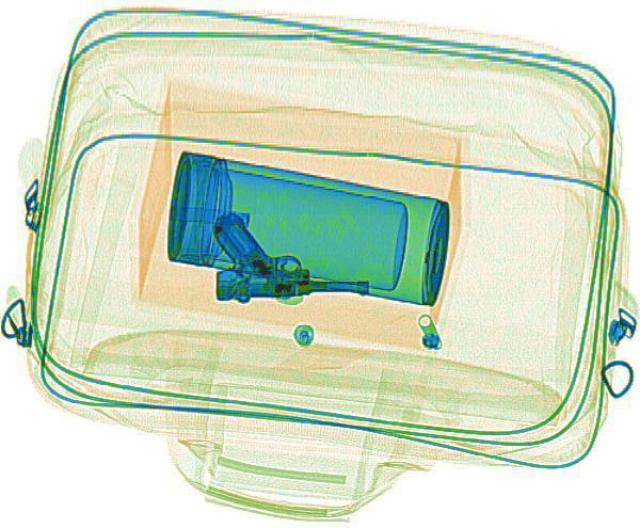Gun: (206, 205, 368, 303)
